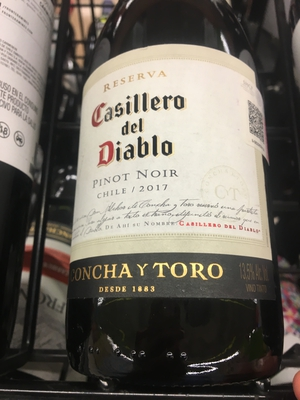casillero del diablo pinot noir: (65, 39, 283, 400)
